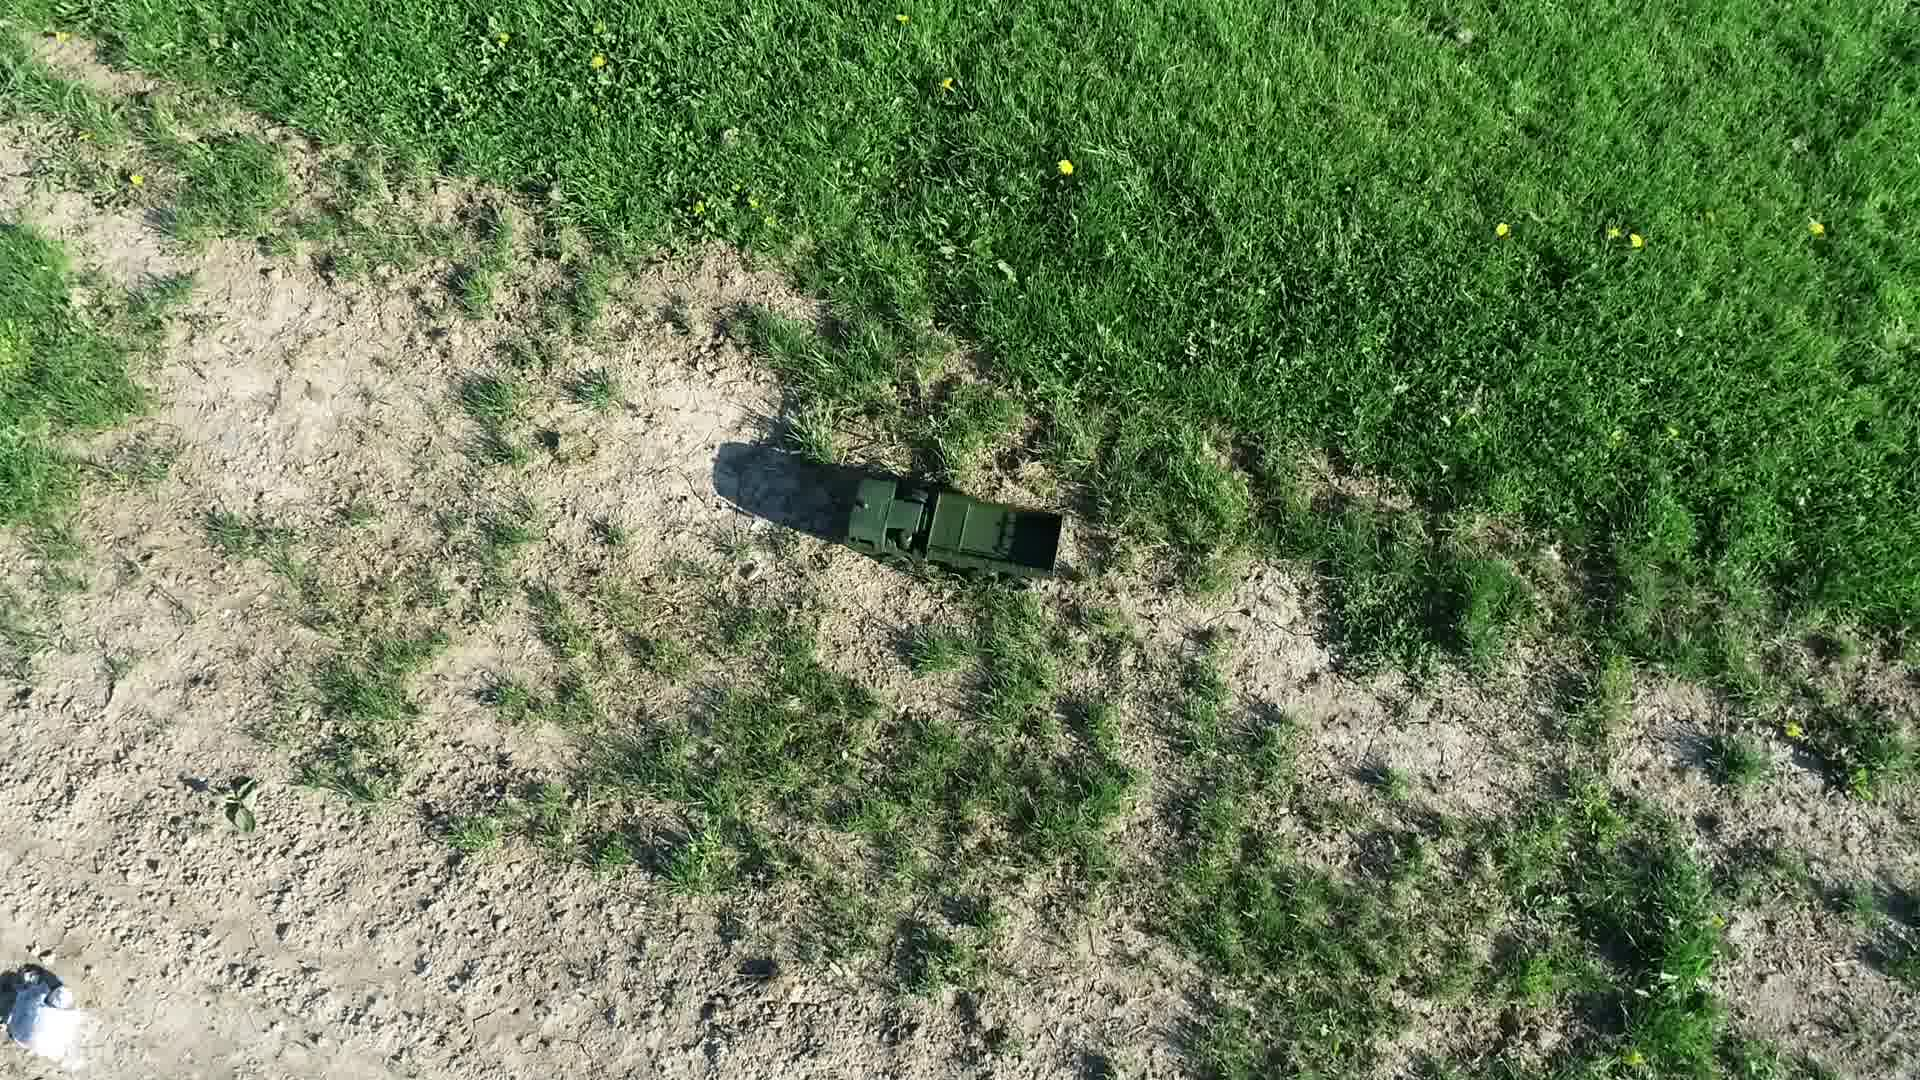transporter9: (836, 465, 1079, 611)
